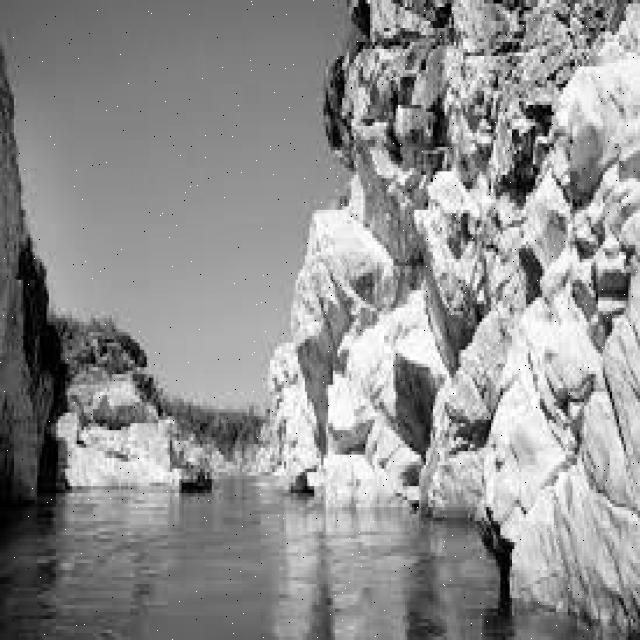Metamorphic: (277, 3, 635, 630)
